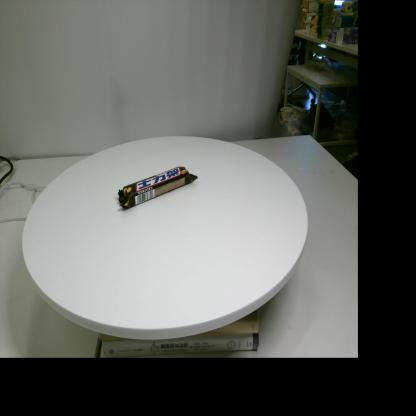Chocolate: (118, 166, 198, 208)
